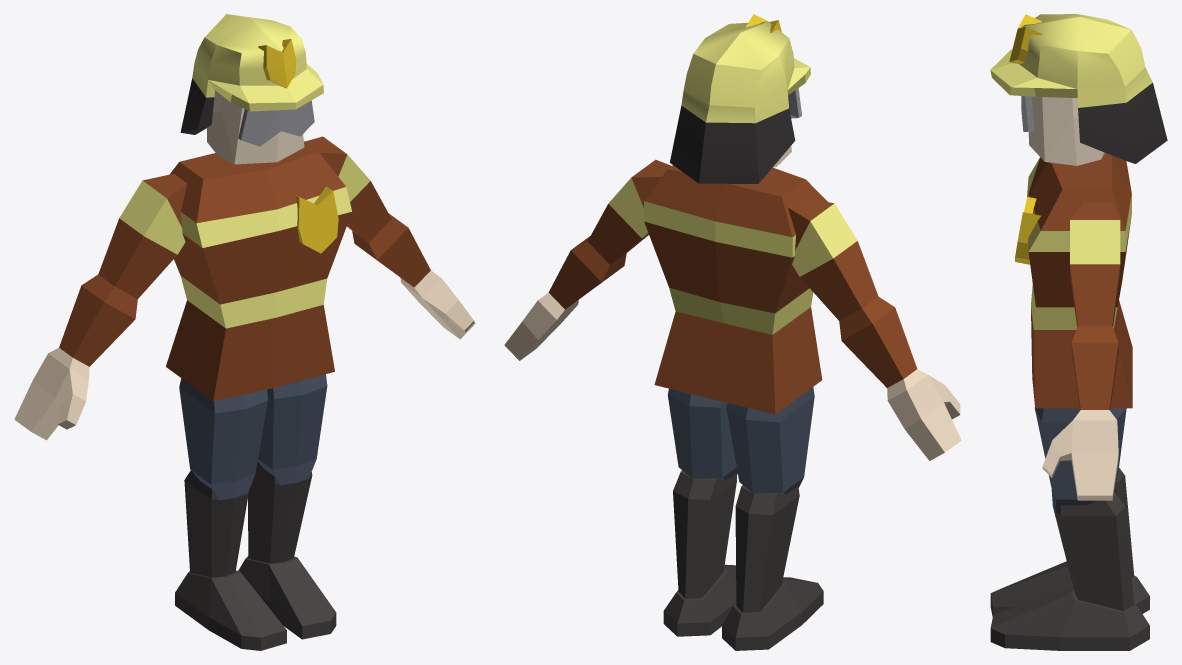
File: g_NPC_RHQFirefighterM.fbx
The picture shows the model from 3 angles, left to right: view 1: azimuth 30°, elevation 25°; view 2: azimuth 150°, elevation 25°; view 3: azimuth 270°, elevation 25°; orthographic projection. The views are drawn at different scales.
Visible parts, largest first — view 1: FirefighterM; view 2: FirefighterM; view 3: FirefighterM.
Part boxes in pixels (x1=…): FirefighterM: x1=14, y1=14, x2=475, y2=650; FirefighterM: x1=504, y1=14, x2=961, y2=650; FirefighterM: x1=990, y1=14, x2=1167, y2=650.
Bounding box in the file's own units: 127 × 162 × 42.84.
